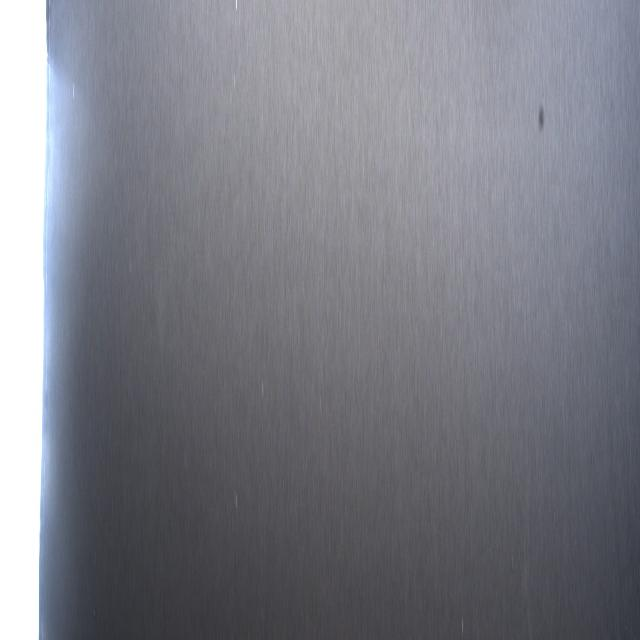whiteDefect: (233, 482, 241, 523), (72, 81, 76, 112), (460, 615, 464, 637)
